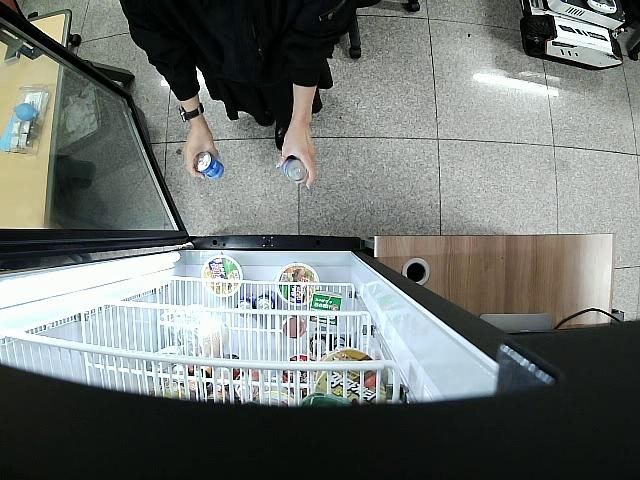00_hand: (274, 127, 316, 189), (182, 129, 218, 181)
15_letsbe: (191, 151, 224, 180), (282, 156, 307, 181)
